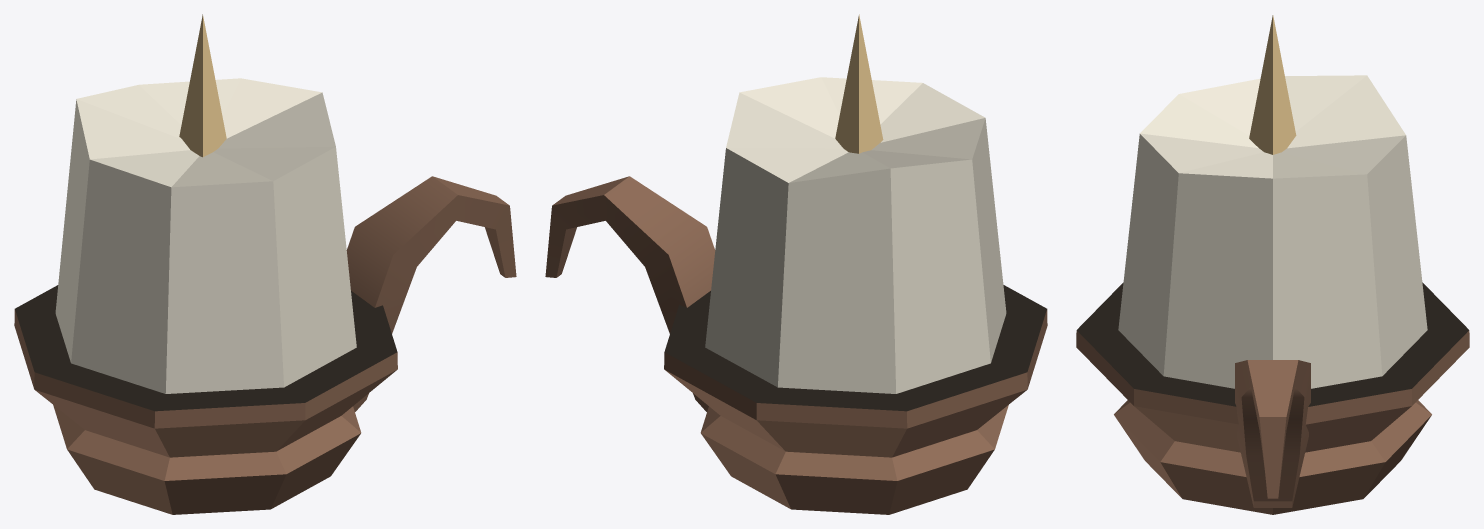
File: CandleStick_2.fbx
3 views of the same model, side by side, from view 1: azimuth 30°, elevation 25°; view 2: azimuth 150°, elevation 25°; view 3: azimuth 270°, elevation 25° (orthographic).
Visible parts, largest first — view 1: pCube785; view 2: pCube785; view 3: pCube785.
Boxes of the visible parts, <box> form: pCube785: <box>14,14,516,514</box>; pCube785: <box>545,14,1047,514</box>; pCube785: <box>1076,15,1469,514</box>.
Bounding box in the file's own units: 30.98 × 27.72 × 22.21.
